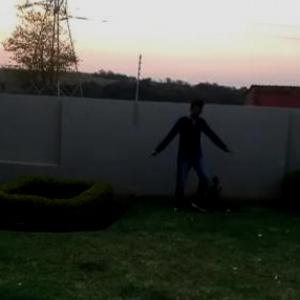land: (151, 105, 233, 219)
